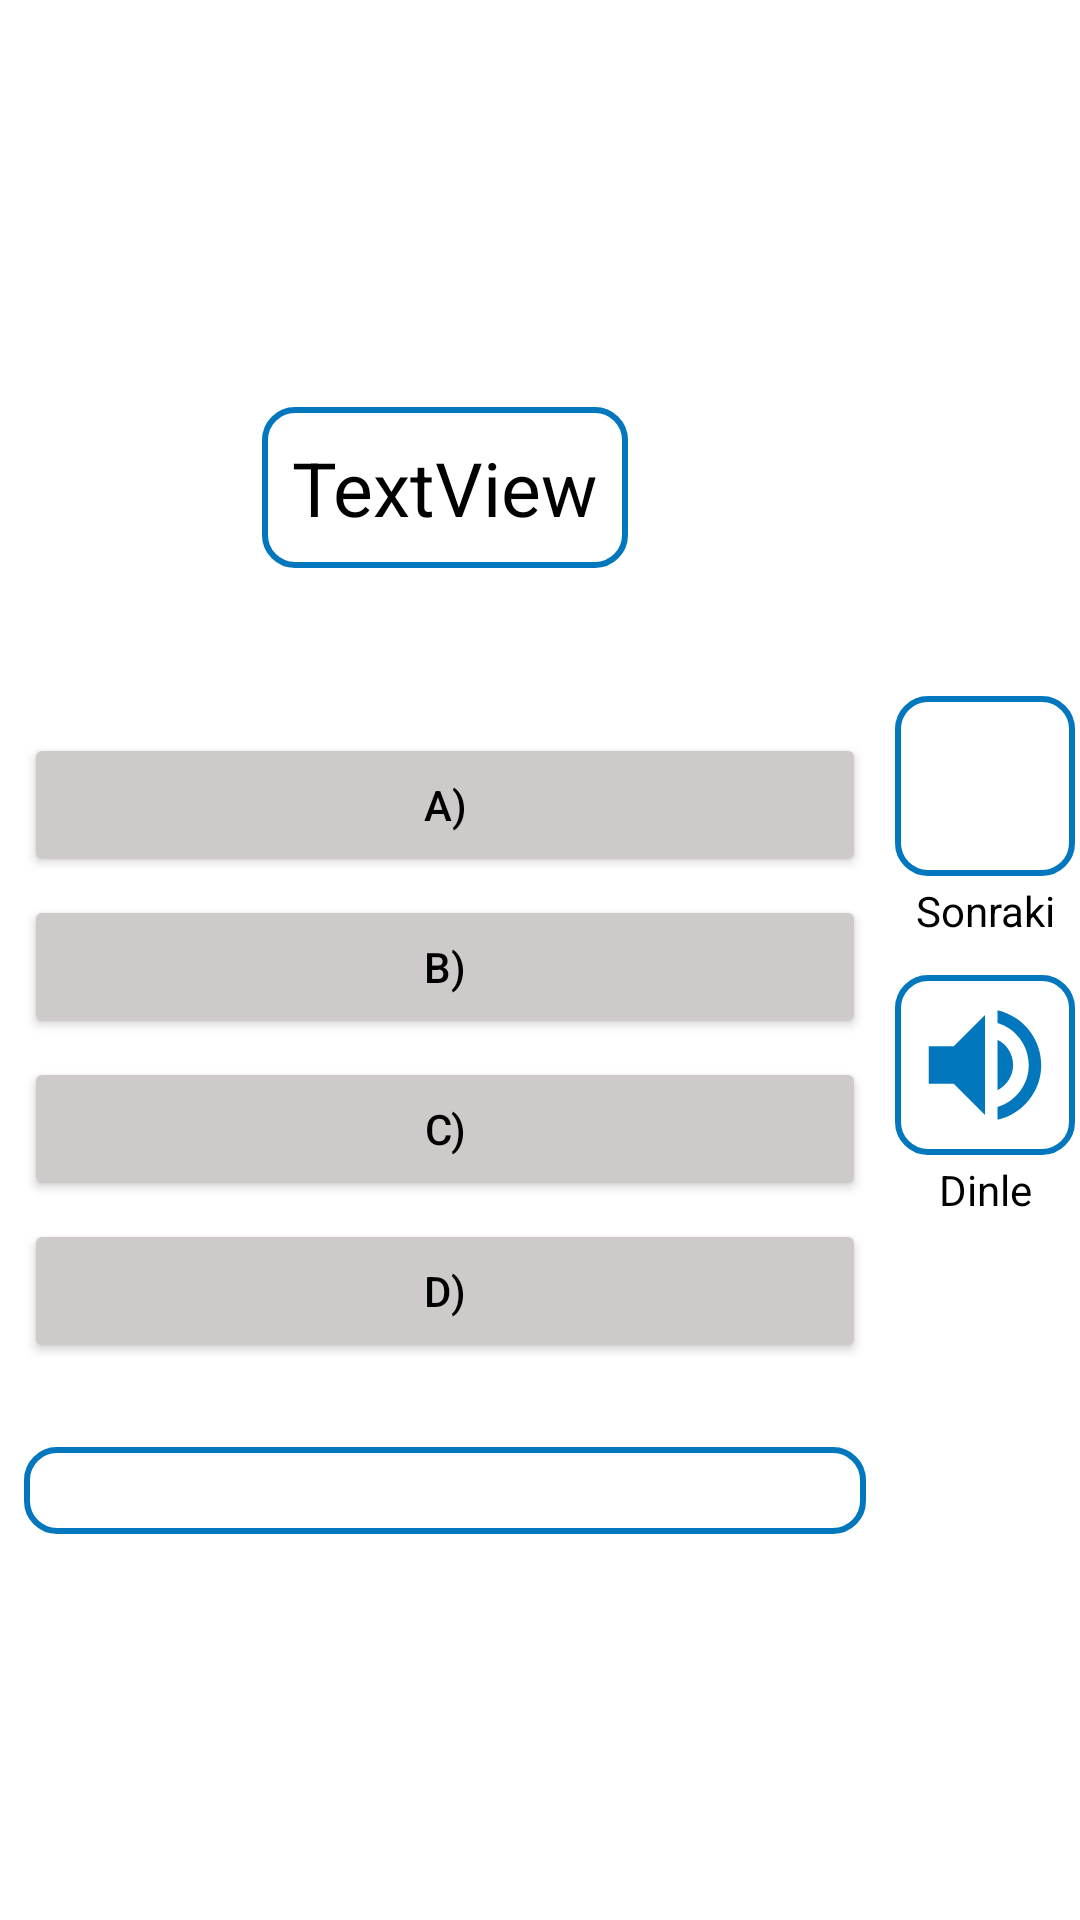

Named icons in this screenshot (1080px×1920px) and their bounding boxes, (x1, y1, x2, y2):
volume up: (895, 975, 1075, 1155)
